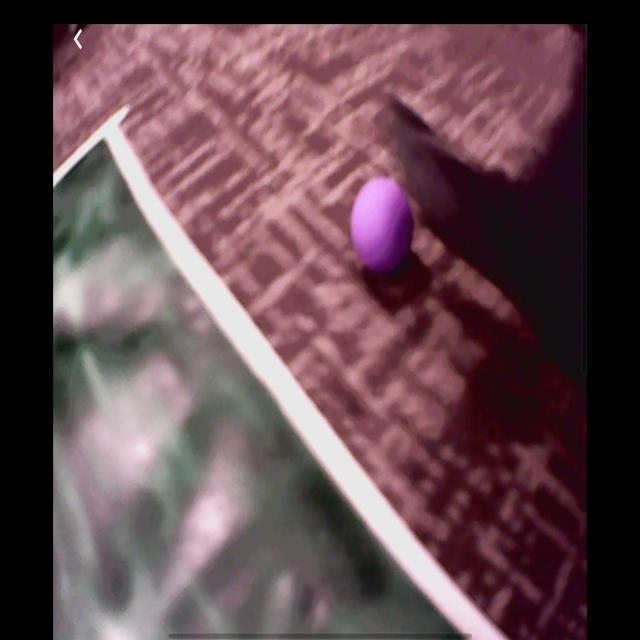ball: (350, 175, 415, 276)
